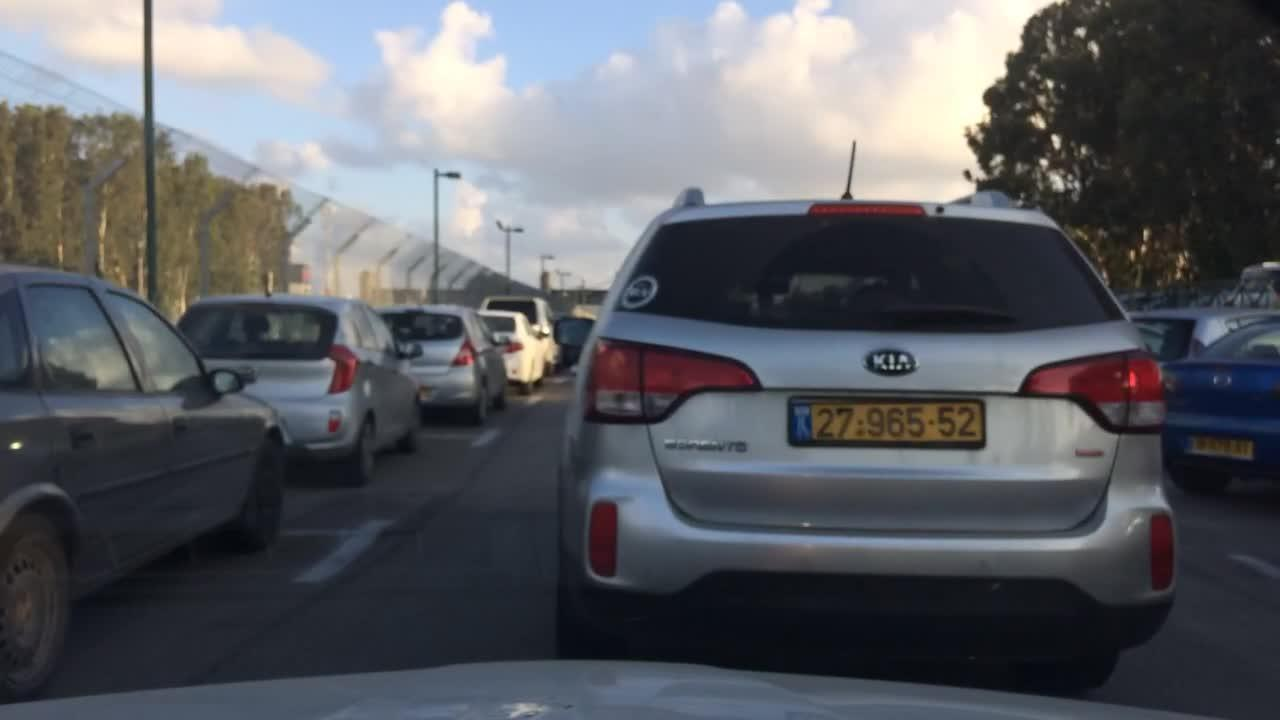kia: (860, 345, 938, 377)
